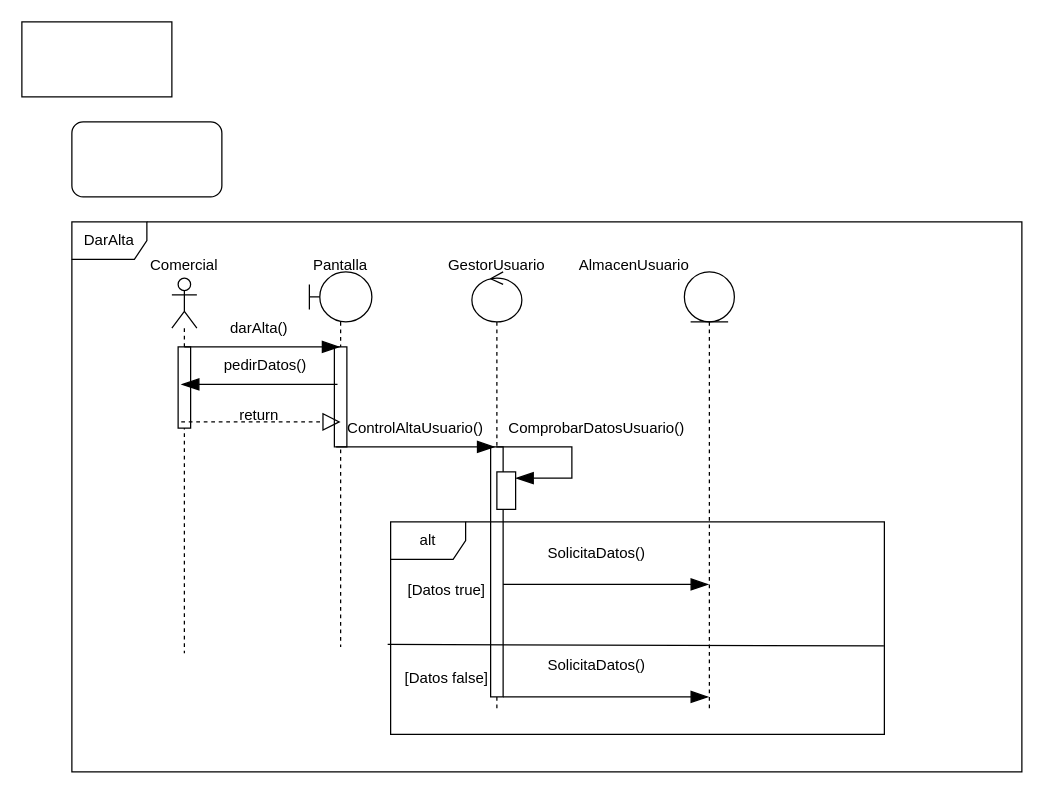
Some shapes in this 1044 by 794 pixel diagram are drawn without their labels. The centre of each missing label's shape, as x and y in pixels:
"Caso de uso:" goes at (x=146, y=159).
"Ejercicio 6" goes at (x=96, y=59).
